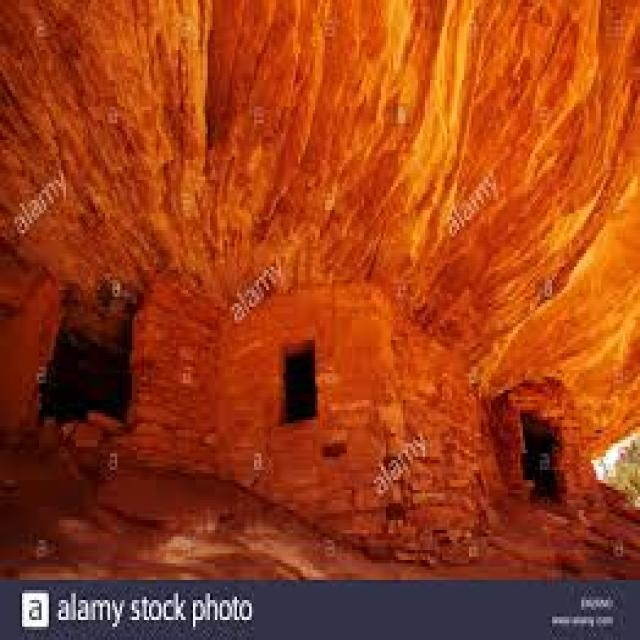Fire: (347, 3, 630, 377)
